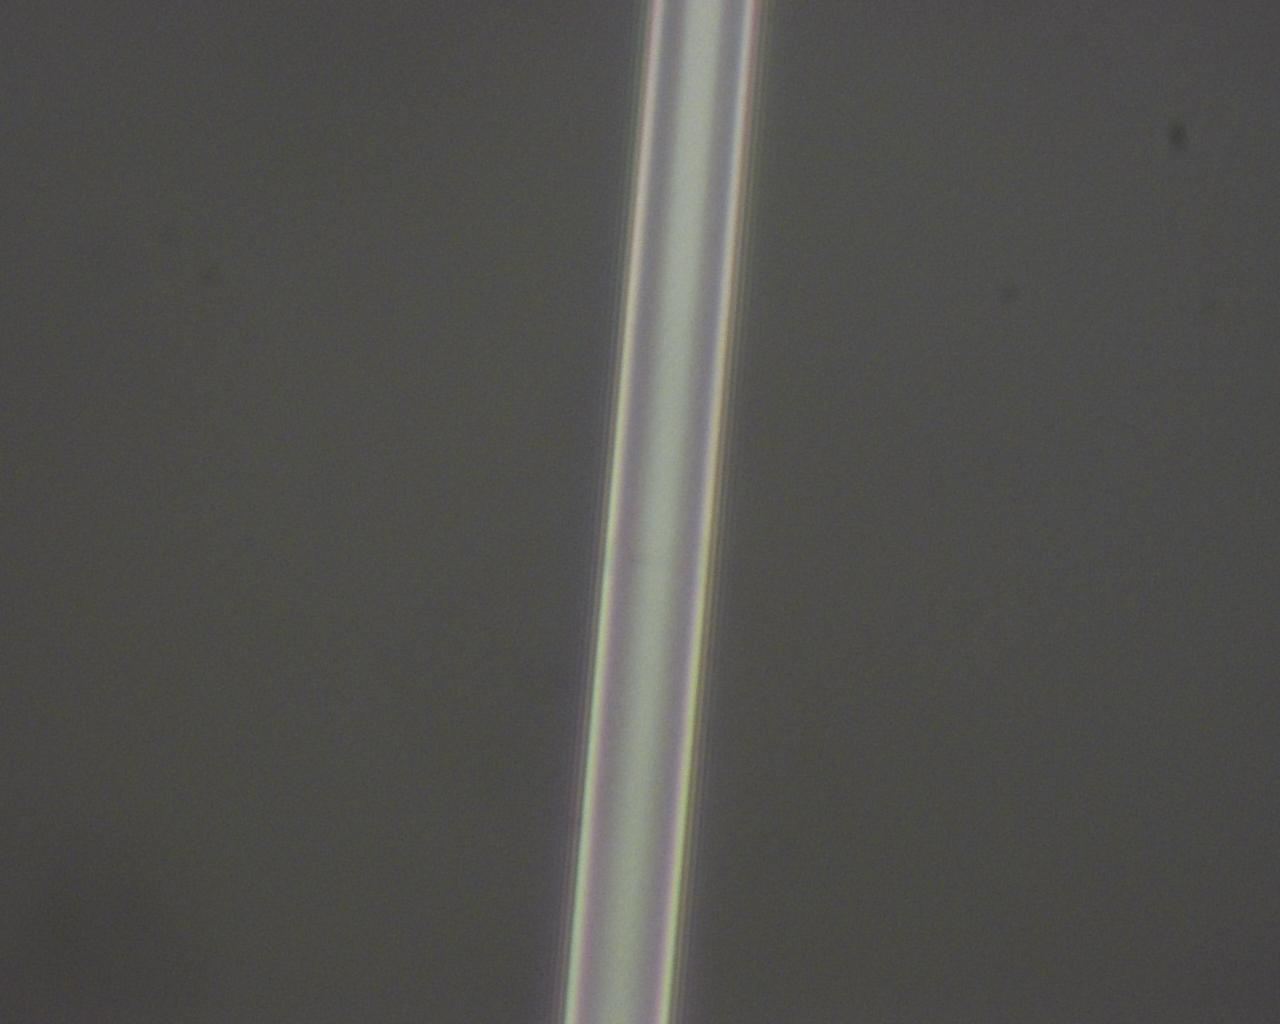fiber: (396, 675, 819, 1024), (191, 0, 350, 675), (1016, 0, 1280, 251)
